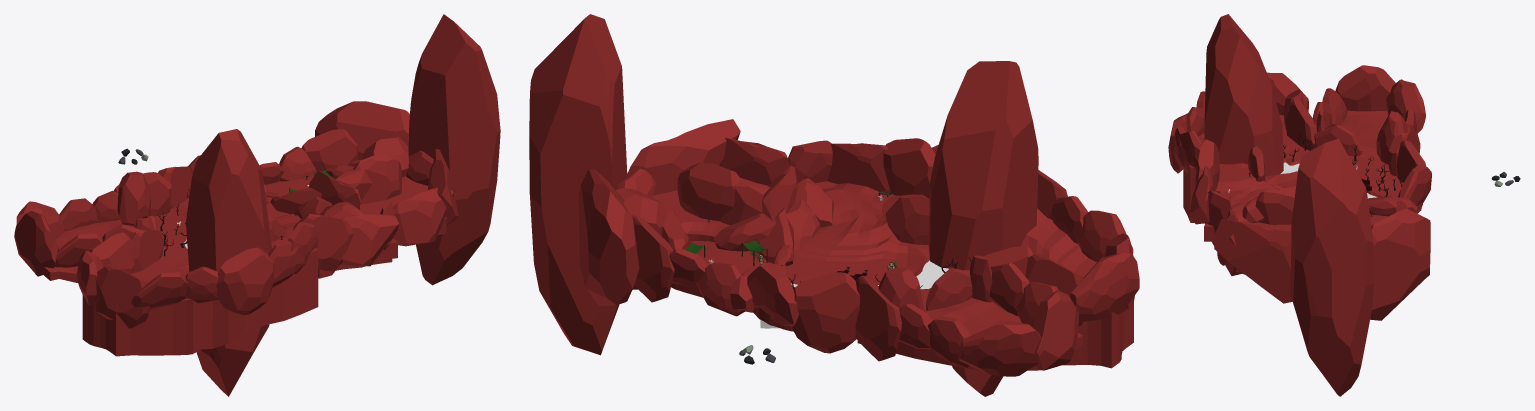
Rendered from Blockout.fbx.
3 renders of one model, left to right at view 1: azimuth 30°, elevation 25°; view 2: azimuth 150°, elevation 25°; view 3: azimuth 270°, elevation 25°, orthographic. The views are drawn at different scales.
Parts seen in each view (by area): view 1: Sphere.034, Sphere.016, Raum2, Sphere.026, Sphere.031, Hauptraum, Sphere.032, Sphere.025, Sphere.038, Sphere.045, Sphere.039, Sphere.013 (+27 smaller); view 2: Sphere.034, Sphere.016, Hauptraum, Sphere.031, Raum2, Sphere.042, Sphere.033, Sphere.046, Sphere.047, Sphere.029, Sphere.045, Sphere.022 (+35 smaller); view 3: Sphere.034, Sphere.016, Sphere.031, Sphere.033, Hauptraum, Sphere.045, Raum4, Sphere.009, Sphere.046, Sphere.050, Sphere.040, Sphere.038 (+15 smaller).
Part boxes in pixels (x1,y1,x2,y2): Sphere.034: (408,14,500,285); Sphere.016: (186,129,271,396); Raum2: (82,247,318,356); Sphere.026: (216,247,274,315); Sphere.031: (315,101,409,159); Hauptraum: (153,198,397,278); Sphere.032: (393,187,453,246); Sphere.025: (95,264,150,328); Sphere.038: (340,214,398,266); Sphere.045: (14,211,58,276); Sphere.039: (293,214,353,271); Sphere.013: (301,129,357,171); Sphere.034: (529,14,627,355); Sphere.016: (928,61,1038,396); Hauptraum: (753,181,969,331); Sphere.031: (578,169,639,305); Raum2: (927,194,1133,368); Sphere.042: (792,272,859,353); Sphere.033: (625,119,740,195); Sphere.046: (958,320,1040,376); Sphere.047: (1070,252,1139,322); Sphere.029: (677,162,741,221); Sphere.045: (1033,290,1078,370); Sphere.022: (855,275,901,361); Sphere.034: (1290,138,1373,396); Sphere.016: (1204,14,1283,275); Sphere.031: (1370,208,1430,320); Sphere.033: (1213,219,1292,303); Hauptraum: (1204,148,1422,249); Sphere.045: (1335,65,1395,111); Raum4: (1340,110,1387,158); Sphere.009: (1255,186,1295,224); Sphere.046: (1386,79,1425,133); Sphere.050: (1285,99,1317,150); Sphere.040: (1398,164,1431,205); Sphere.038: (1190,165,1213,224).
Size of the model in its own units: 20640 by 12188 by 14709.
